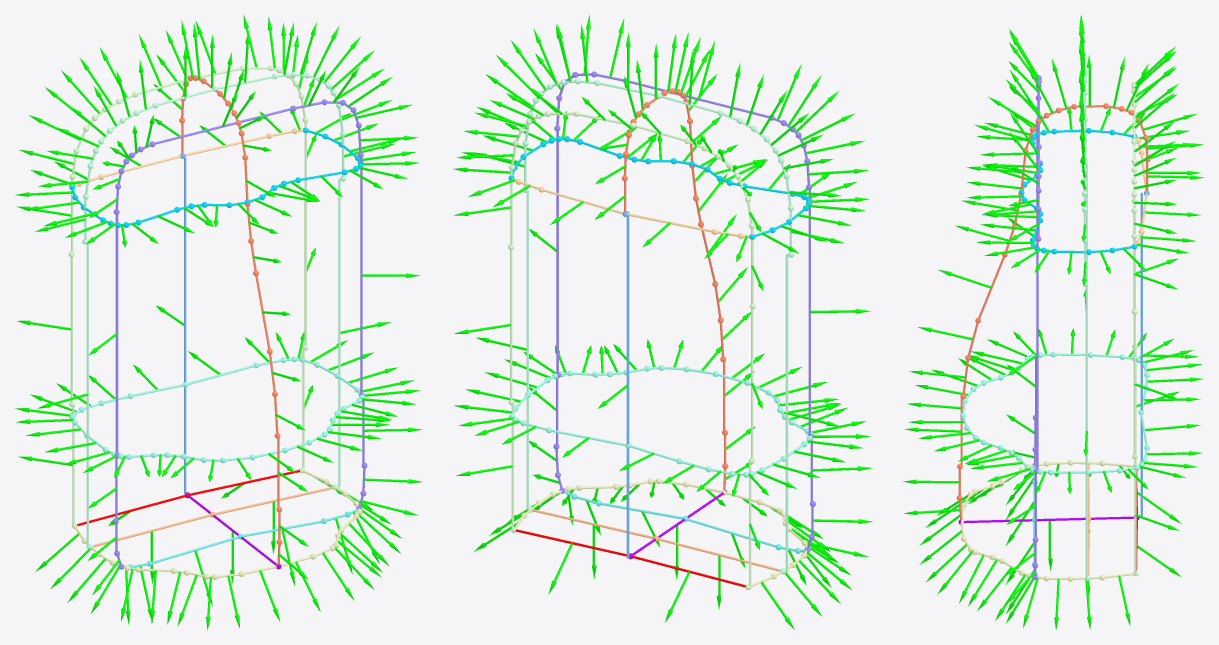
The picture shows the model from 3 angles, left to right: view 1: azimuth 30°, elevation 25°; view 2: azimuth 150°, elevation 25°; view 3: azimuth 270°, elevation 25°; orthographic projection. The views are drawn at different scales.
Size of the model in its own units: 0.6981 by 0.9907 by 0.5249.
